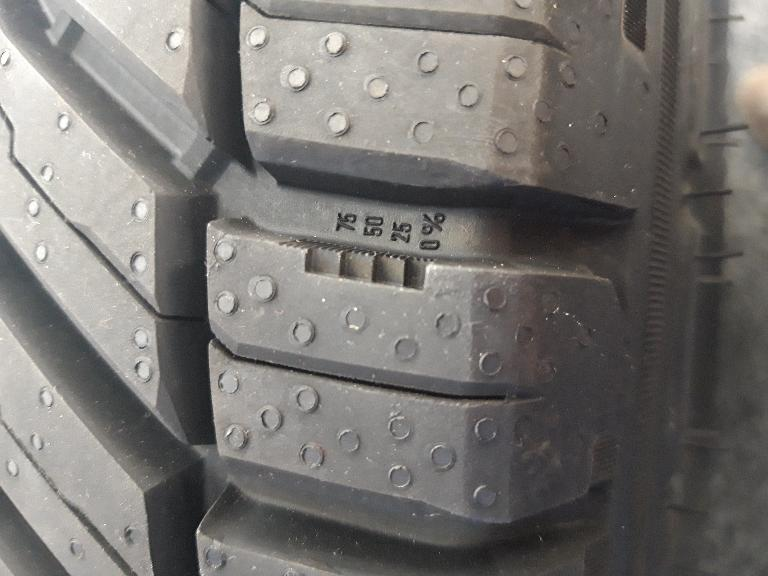temoin:100: (273, 234, 441, 298)
